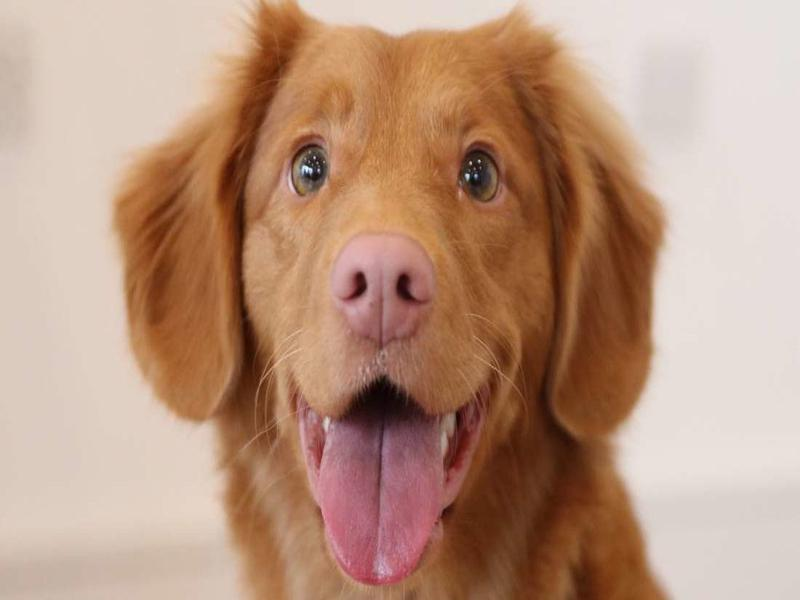dog: (107, 6, 675, 600)
